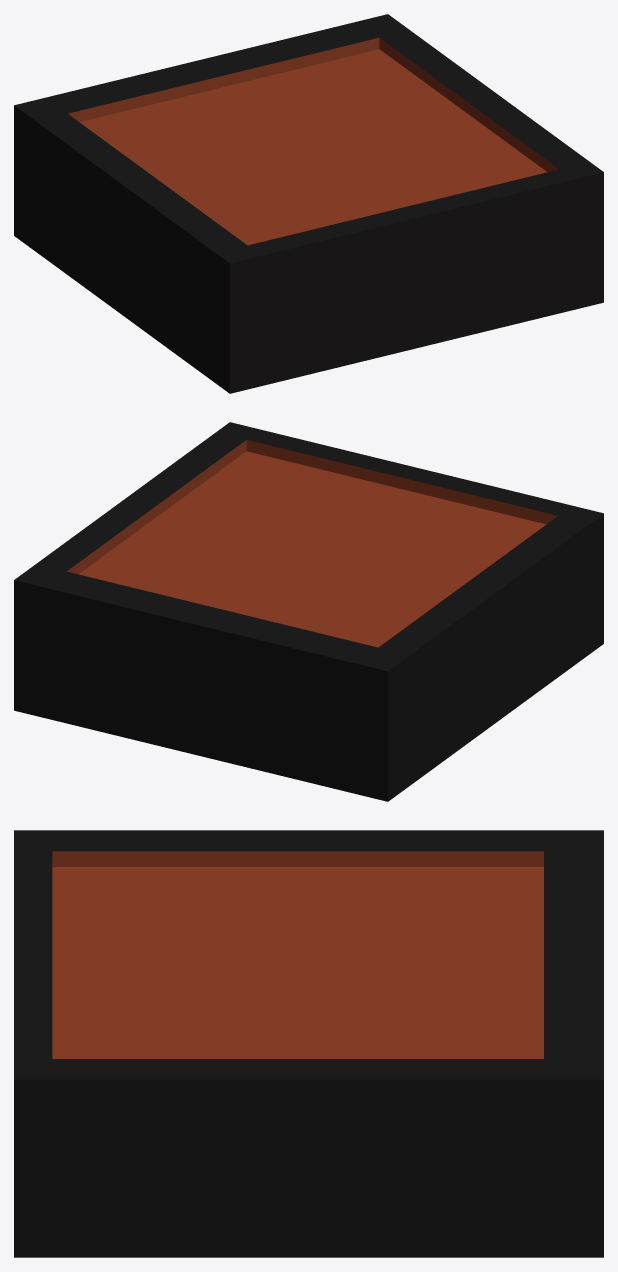
File: Fireplace.fbx
The picture shows the model from 3 angles, top to bottom: view 1: azimuth 30°, elevation 25°; view 2: azimuth 150°, elevation 25°; view 3: azimuth 270°, elevation 25°; orthographic projection. The views are drawn at different scales.
Visible parts, largest first — view 1: Black Mesh (1), Brick Mesh (1); view 2: Black Mesh (1), Brick Mesh (1); view 3: Black Mesh (1), Brick Mesh (1).
Part boxes in pixels (box(x1,y1,x2,y2)): Black Mesh (1): box(14, 14, 603, 393); Brick Mesh (1): box(68, 37, 558, 245); Black Mesh (1): box(14, 422, 603, 801); Brick Mesh (1): box(67, 440, 557, 647); Black Mesh (1): box(14, 830, 603, 1257); Brick Mesh (1): box(52, 851, 543, 1058).
Size of the model in its own units: 3 by 1 by 3.
